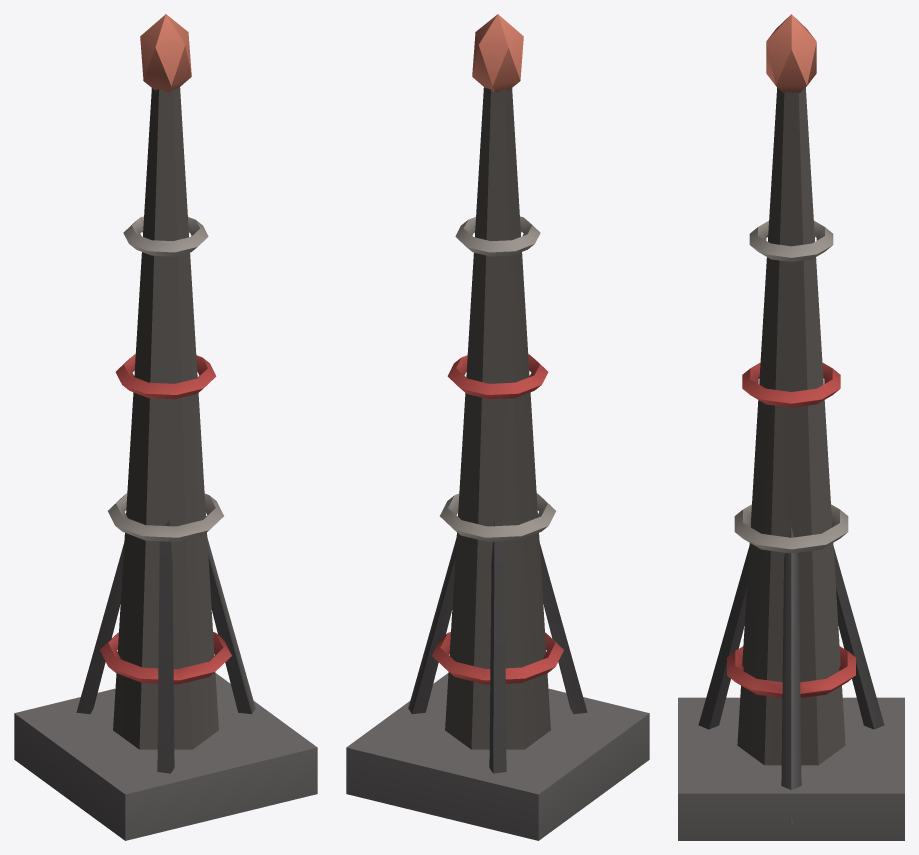
File: resonance_pylon.glb
3 renders of one model, left to right at view 1: azimuth 30°, elevation 25°; view 2: azimuth 150°, elevation 25°; view 3: azimuth 270°, elevation 25°, orthographic. The views are drawn at different scales.
Parts seen in each view (by area): view 1: resonance_pylon; view 2: resonance_pylon; view 3: resonance_pylon.
Boxes of the visible parts, x1,y1,x2,y2 form: resonance_pylon: (14,14,317,840); resonance_pylon: (346,14,649,840); resonance_pylon: (678,14,904,840).
Bounding box in the file's own units: 2.62 × 9.85 × 2.6.
